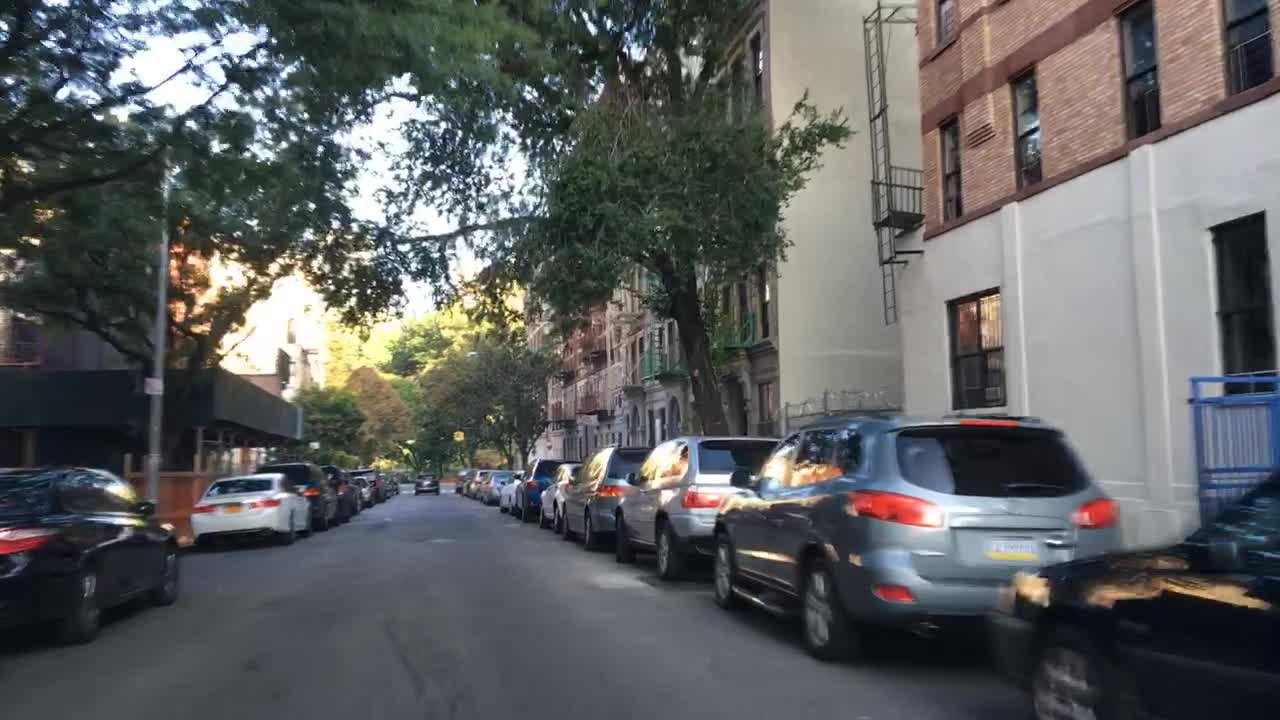car: (712, 410, 1126, 664), (981, 454, 1279, 718), (0, 467, 180, 646), (614, 436, 787, 583), (565, 445, 656, 552), (189, 474, 313, 547), (257, 462, 336, 530), (516, 456, 566, 524), (538, 462, 581, 532), (480, 467, 532, 509), (323, 464, 357, 520), (496, 472, 529, 514), (459, 469, 495, 498), (363, 468, 387, 509), (453, 467, 478, 497), (357, 475, 375, 507), (415, 474, 441, 495), (390, 474, 402, 499)
traffic light: (455, 431, 463, 442)
traffic sign: (144, 379, 161, 395)
